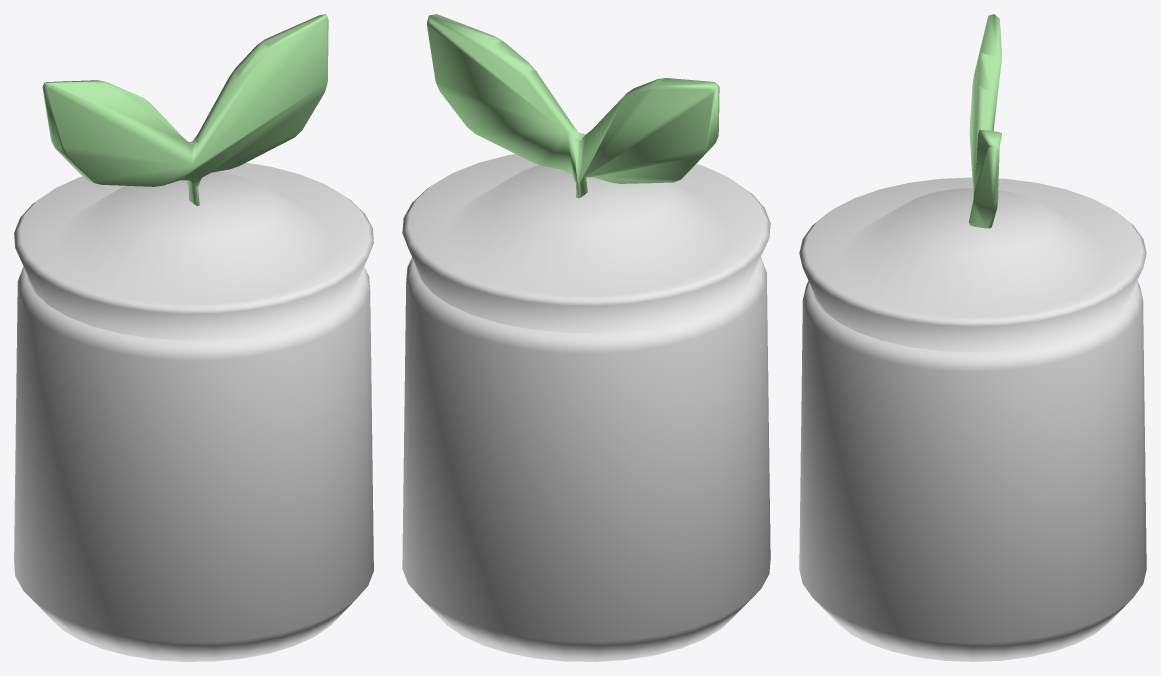
Rendered from seedbag.fbx.
The picture shows the model from 3 angles, left to right: view 1: azimuth 30°, elevation 25°; view 2: azimuth 150°, elevation 25°; view 3: azimuth 270°, elevation 25°; orthographic projection. The views are drawn at different scales.
Parts seen in each view (by area): view 1: Cylinder, Cube.001; view 2: Cylinder, Cube.001; view 3: Cylinder, Cube.001.
Part boxes in pixels (bbox=[...]): Cylinder: bbox=[14, 162, 373, 661]; Cube.001: bbox=[42, 14, 328, 205]; Cylinder: bbox=[402, 154, 770, 661]; Cube.001: bbox=[427, 14, 719, 198]; Cylinder: bbox=[799, 177, 1146, 661]; Cube.001: bbox=[969, 14, 1001, 228].
Size of the model in its own units: 10.16 by 16.83 by 10.16.
